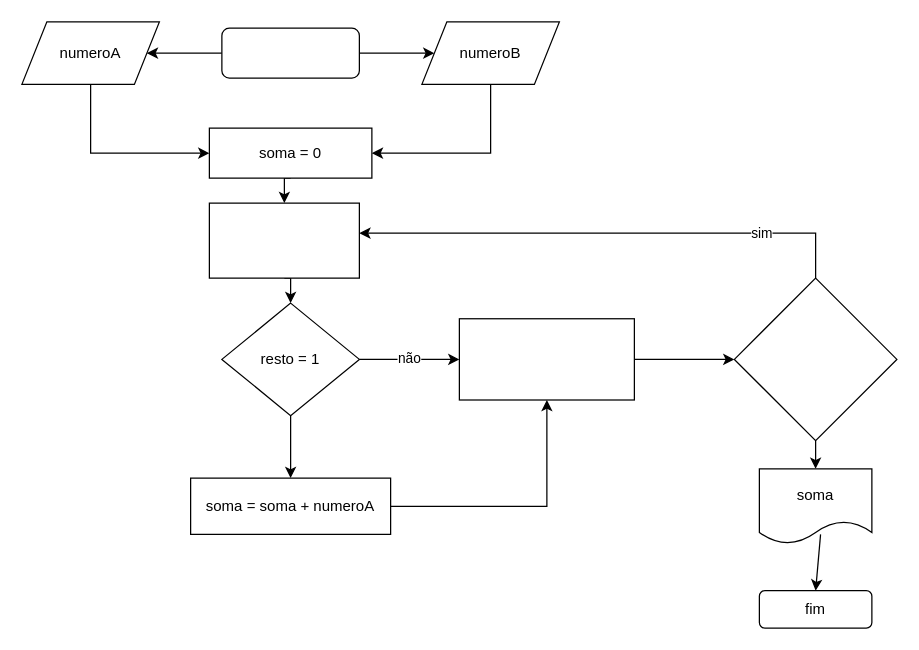
Some shapes in this 919 by 650 pixel diagram are drawn without their labels. The shapes that lost their labels are listed below. From the top down, each one's centre as x and y in pixels, then its label:
the point at 290,52: inicio
the point at 283,240: resto = numeroA % 2
the point at 546,359: numeroA = numeroA + 1
the point at 815,359: numeroA <= numeroB
